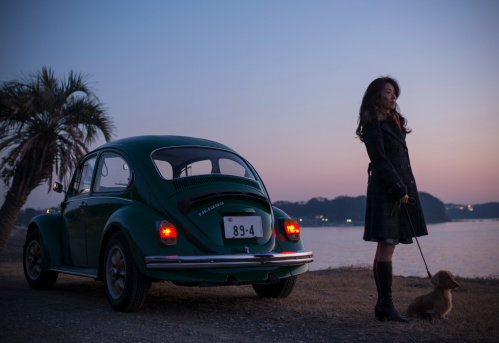em pe: (344, 61, 429, 318)
